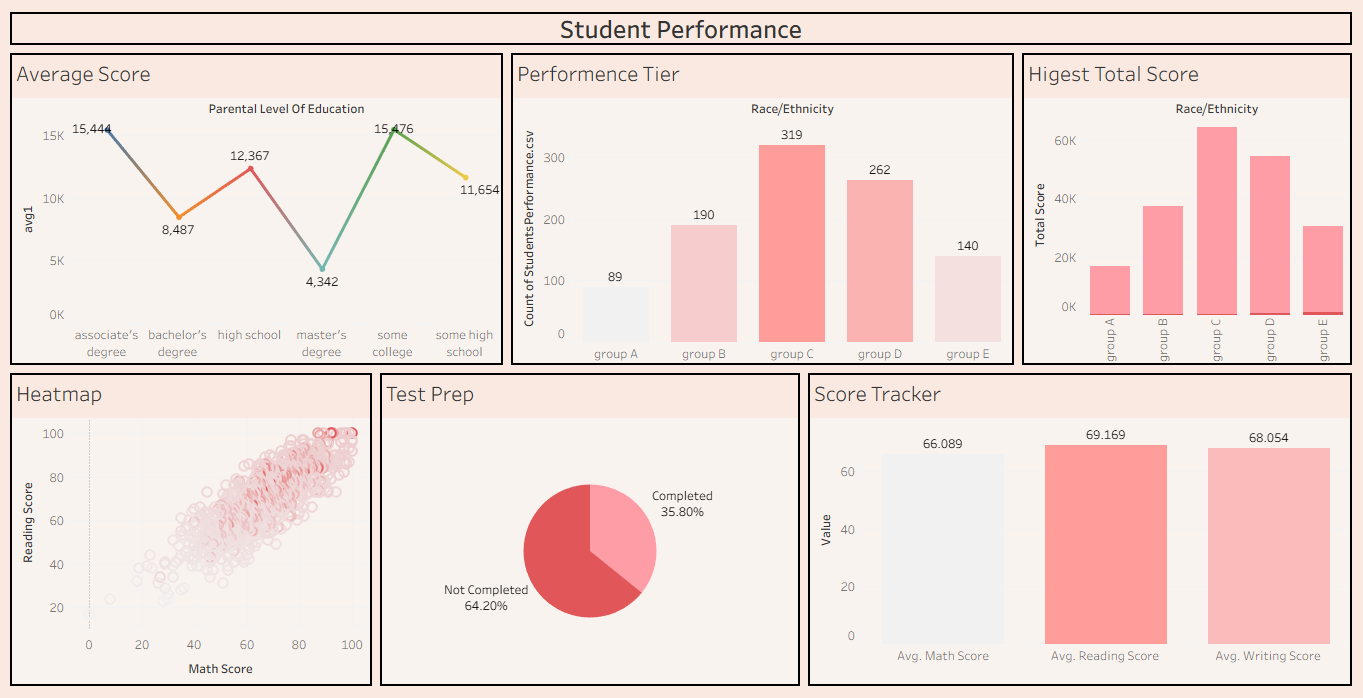

Layout of this report page (visuals, bound fields, positions):
{"tool":"tableau","page":{"name":"Student Performance","canvas":[1000,1000],"units":"permille","ordinal":0},"visuals":[{"type":"title","box":[6.9,14.7,986.1,75.4]},{"type":"worksheet","title":"Average Score","mark":"Line","rows":["Calculation_479351938770821123"],"cols":["parental level of education"],"box":[6.9,90.1,366.2,447.6]},{"type":"worksheet","title":"Performence Tier","mark":"Bar","rows":["StudentsPerformance.csv_1101727186FE4A2E8747E69B1CE2F942"],"cols":["race/ethnicity"],"box":[373.1,90.1,373.3,447.6]},{"type":"worksheet","title":"Higest Total Score","mark":"Bar","rows":["Calculation_479351938778619910"],"cols":["race/ethnicity"],"box":[746.5,90.1,246.6,447.6]},{"type":"worksheet","title":"Heatmap","mark":"Automatic","rows":["reading score"],"cols":["math score"],"box":[6.9,537.6,270.1,447.6]},{"type":"worksheet","title":"Test Prep","mark":"Pie","box":[277,537.6,312.6,447.6]},{"type":"worksheet","title":"Score Tracker","mark":"Automatic","box":[589.6,537.6,403.5,447.6]}]}

Visuals, with their boxes on the dashboard's canvas, which has no fixed pixel size, in thousandths of its width and height (x1, y1, x2, y2). These are canvas units, not pixel positions in the 1363x698 screenshot, which may show the page scaled, cropped or inside an application window:
title: {"x1": 7, "y1": 15, "x2": 993, "y2": 90}
"Average Score" worksheet (Line marks): {"x1": 7, "y1": 90, "x2": 373, "y2": 538}
"Performence Tier" worksheet (Bar marks): {"x1": 373, "y1": 90, "x2": 746, "y2": 538}
"Higest Total Score" worksheet (Bar marks): {"x1": 746, "y1": 90, "x2": 993, "y2": 538}
"Heatmap" worksheet: {"x1": 7, "y1": 538, "x2": 277, "y2": 985}
"Test Prep" worksheet (Pie marks): {"x1": 277, "y1": 538, "x2": 590, "y2": 985}
"Score Tracker" worksheet: {"x1": 590, "y1": 538, "x2": 993, "y2": 985}
